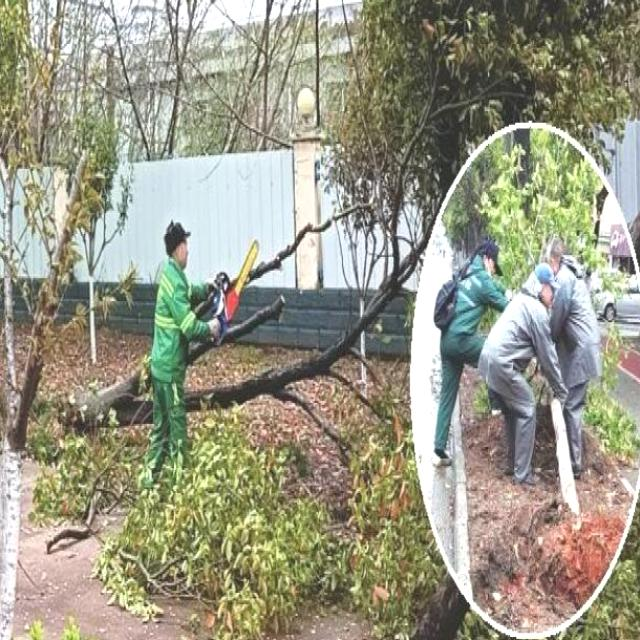fallen_object: (38, 200, 446, 430), (552, 400, 587, 530)
